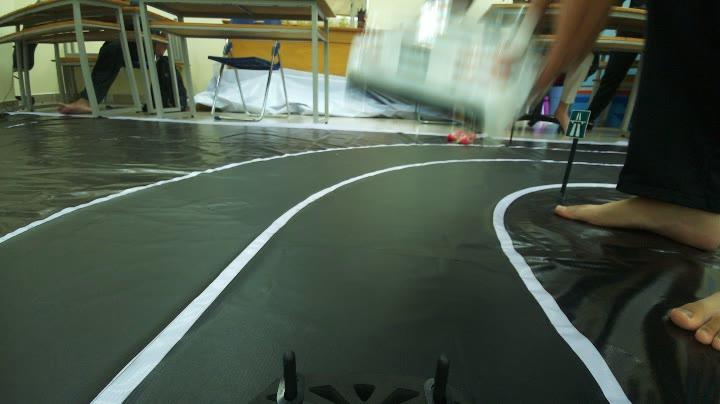highway_entry: (562, 108, 592, 144)
